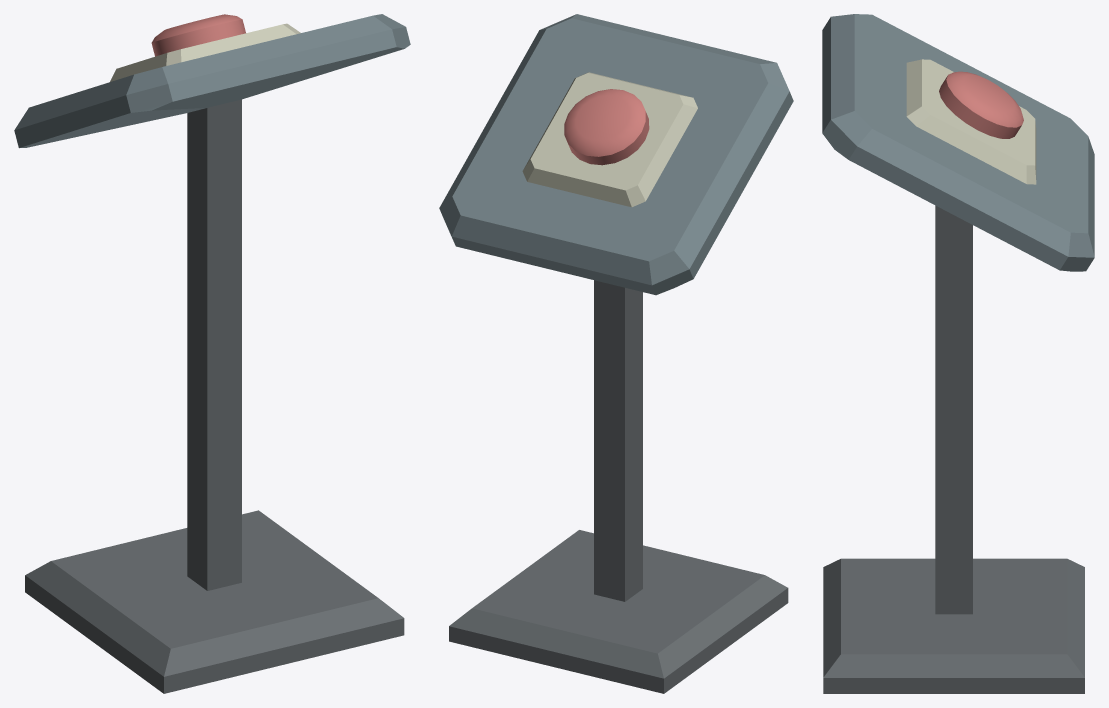
File: Elevator_Exterior_Button.fbx
3 renders of one model, left to right at view 1: azimuth 30°, elevation 25°; view 2: azimuth 150°, elevation 25°; view 3: azimuth 270°, elevation 25°, orthographic. The views are drawn at different scales.
Parts seen in each view (by area): view 1: pCube34, pCylinder20; view 2: pCube34, pCylinder20; view 3: pCube34, pCylinder20.
Part boxes in pixels (x1,y1,x2,y2): pCube34: [14, 14, 410, 693]; pCylinder20: [151, 14, 245, 56]; pCube34: [439, 14, 793, 693]; pCylinder20: [564, 89, 649, 165]; pCube34: [822, 14, 1094, 693]; pCylinder20: [939, 71, 1023, 138].
Bounding box in the file's own units: 0.4348 × 0.9072 × 0.3889.
